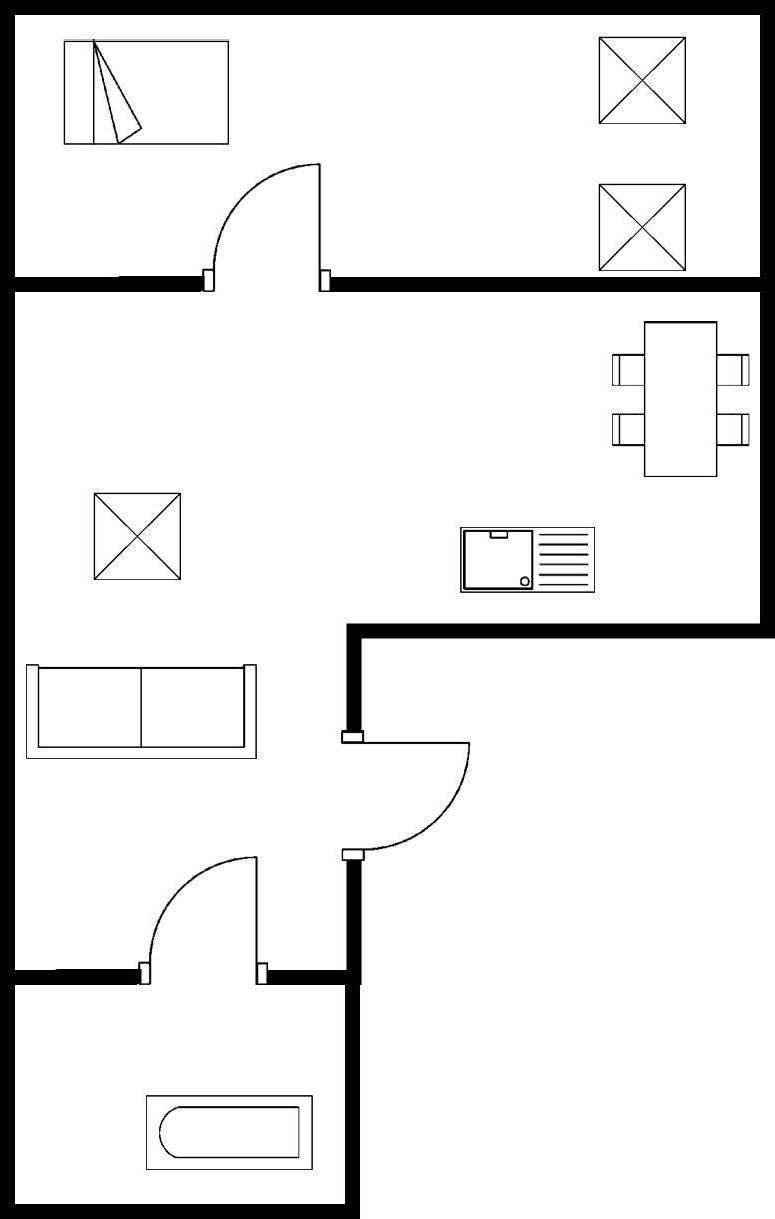bed: (56, 33, 238, 152)
coffee_table: (86, 485, 191, 587), (591, 30, 695, 131), (591, 176, 692, 277)
dining_table: (604, 313, 754, 483)
large_sofa: (20, 658, 266, 766)
sink: (452, 518, 608, 603)
tub: (136, 1088, 320, 1176)
